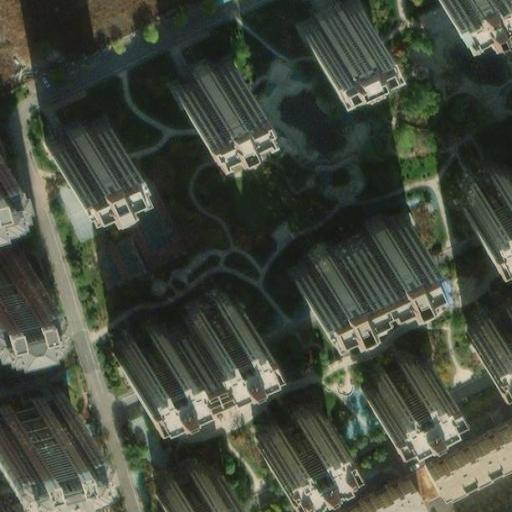building: (102, 282, 233, 365), (277, 195, 401, 271), (415, 415, 512, 493), (247, 392, 317, 448), (142, 448, 212, 504), (355, 342, 422, 398), (324, 474, 412, 512), (454, 290, 512, 346), (0, 373, 58, 420), (37, 103, 99, 146), (162, 49, 225, 91), (287, 0, 353, 29), (0, 241, 18, 288), (510, 149, 512, 153)
